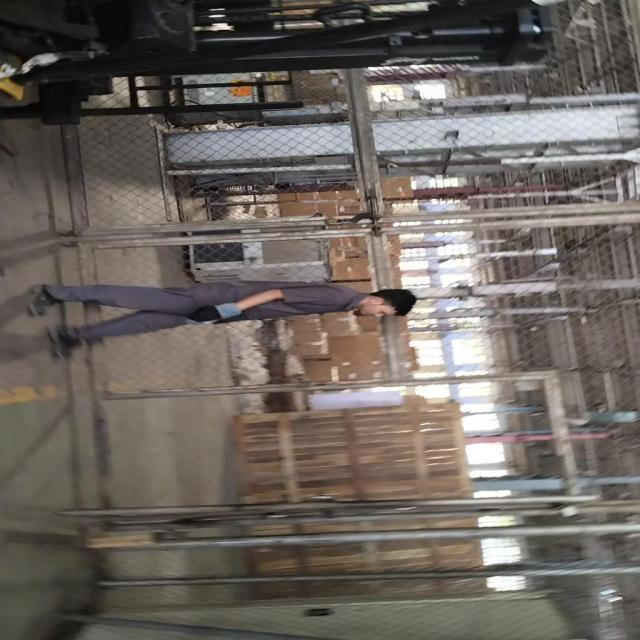Gloves-Detection: (190, 306, 242, 328)
